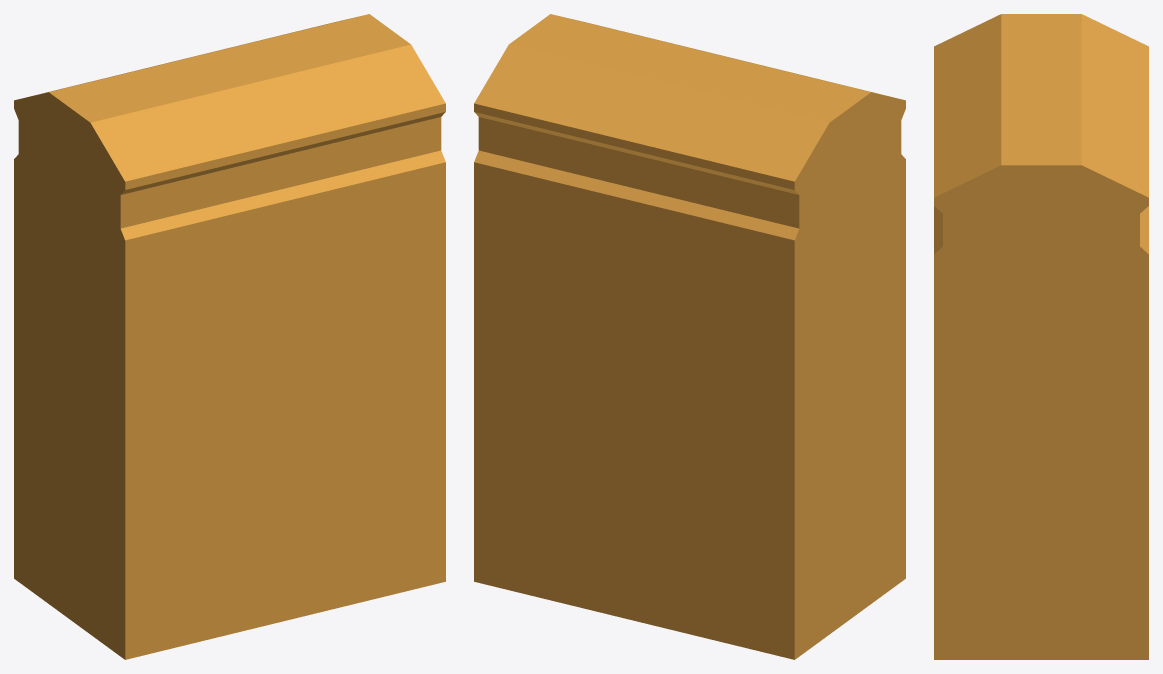
File: india-wall-hindu.glb
3 views of the same model, side by side, from view 1: azimuth 30°, elevation 25°; view 2: azimuth 150°, elevation 25°; view 3: azimuth 270°, elevation 25° (orthographic). The views are drawn at different scales.
Visible parts, largest first — view 1: wall-hindu; view 2: wall-hindu; view 3: wall-hindu.
Boxes of the visible parts, x1,y1,x2,y2 form: wall-hindu: (14,14,445,659); wall-hindu: (474,14,905,659); wall-hindu: (934,14,1148,659).
Bounding box in the file's own units: 4 × 6.1 × 2.4.
